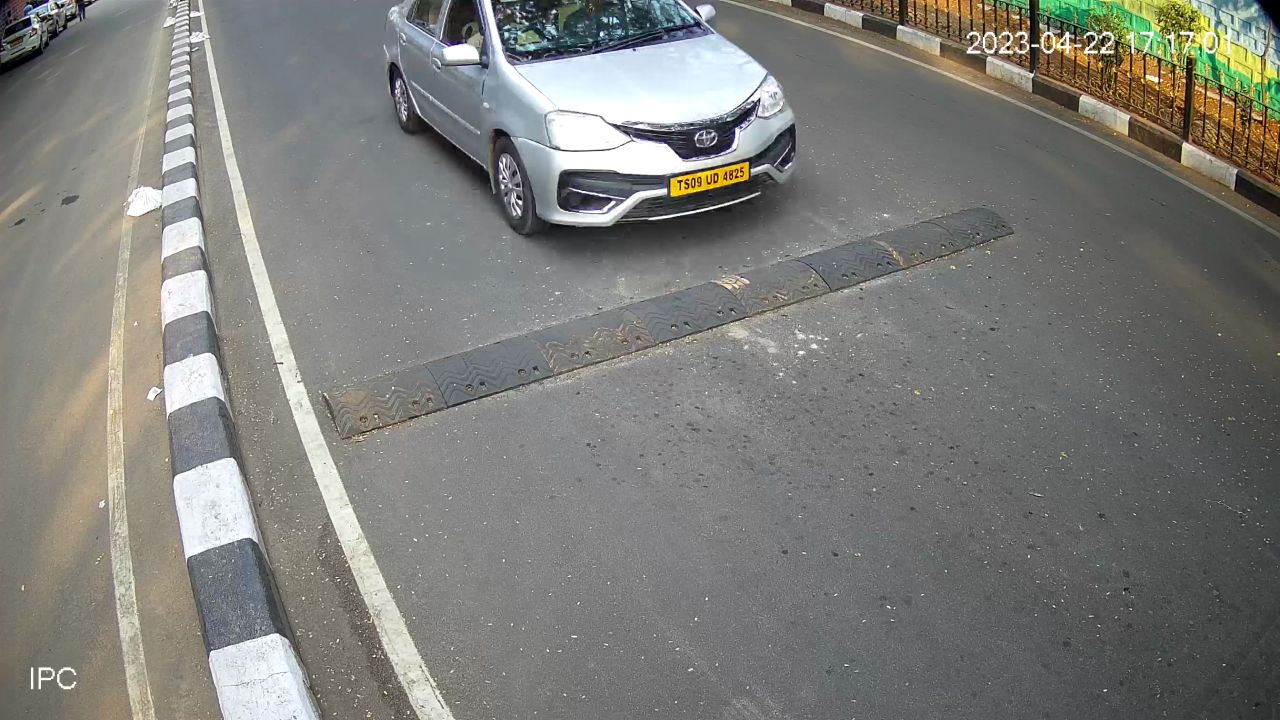license_plate: (662, 155, 753, 207)
